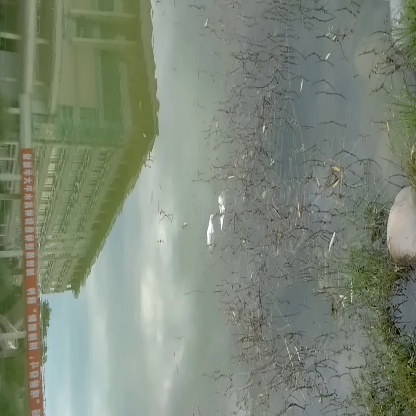plastic-bag: (194, 185, 233, 253)
